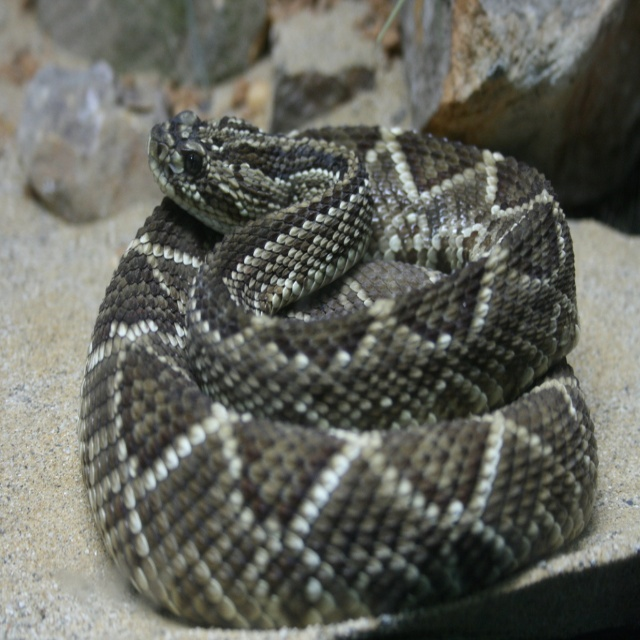Snake: (79, 85, 586, 611)
